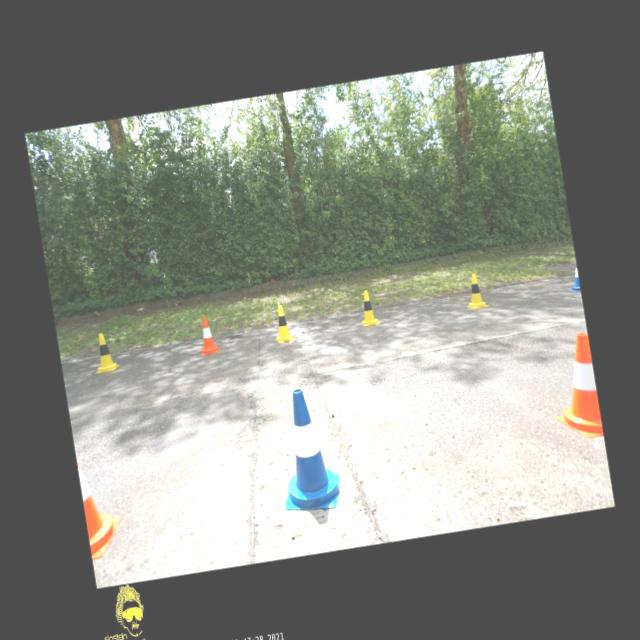blue_cone: (267, 384, 344, 516), (566, 264, 580, 293)
orange_cone: (543, 331, 603, 442), (77, 452, 127, 560), (194, 316, 220, 356)
yellow_cone: (90, 332, 120, 374), (270, 304, 295, 344), (462, 272, 488, 310), (356, 290, 379, 326)
